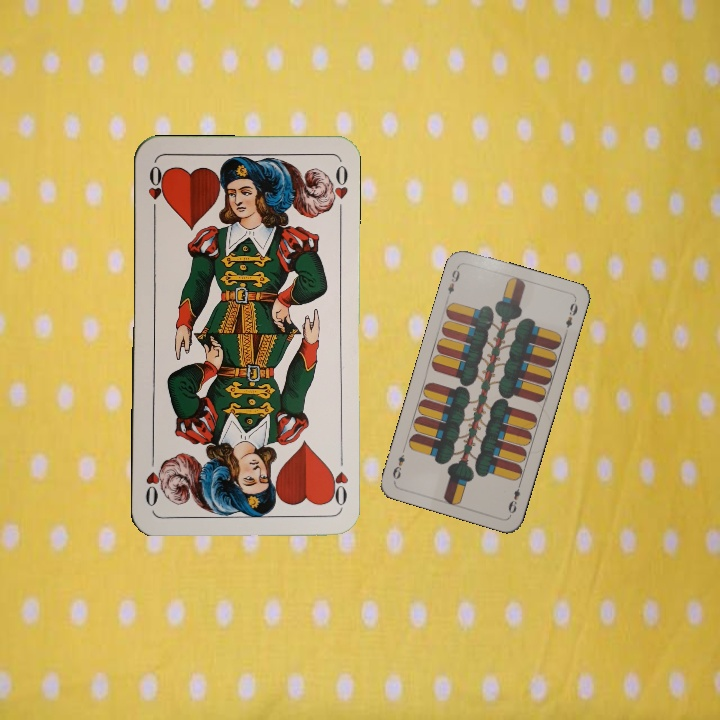E9: (504, 478, 524, 516), (443, 262, 462, 302)
HO: (144, 161, 166, 219), (324, 463, 350, 509)
